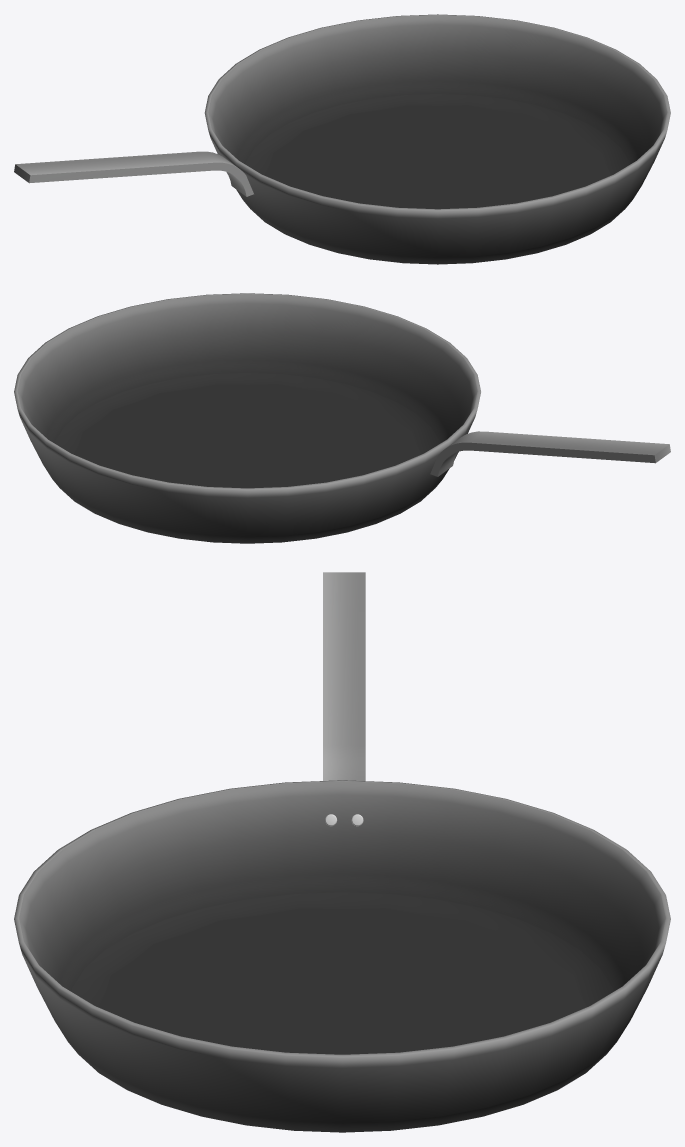
File: FryingPan_V1.FBX
3 views of the same model, one above another, from view 1: azimuth 30°, elevation 25°; view 2: azimuth 150°, elevation 25°; view 3: azimuth 270°, elevation 25° (orthographic). The views are drawn at different scales.
Parts seen in each view (by area): view 1: Frying Pan; view 2: Frying Pan; view 3: Frying Pan.
Boxes of the visible parts, x1,y1,x2,y2 form: Frying Pan: (14,14,670,264); Frying Pan: (14,293,670,543); Frying Pan: (14,572,670,1132).
Bounding box in the file's own units: 180 × 31.44 × 118.
Materials: 1 (1 with a texture image).
